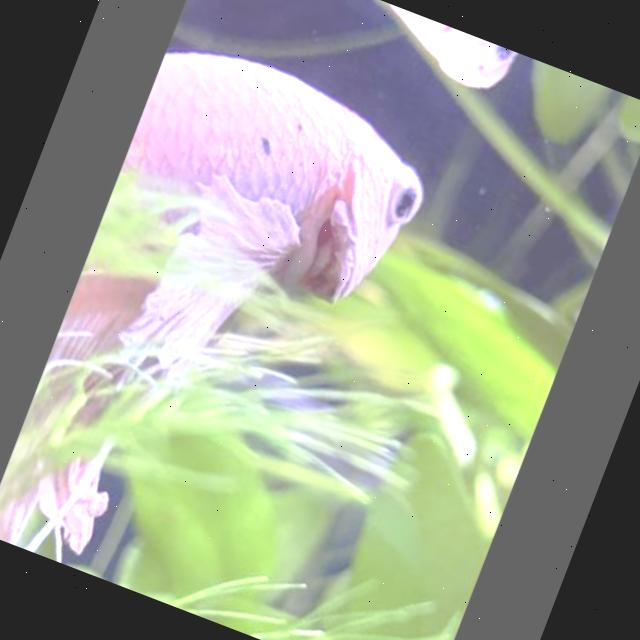Flavobacterium -Bacterial Gill Disease-: (0, 52, 422, 537), (124, 55, 422, 347)
